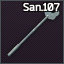Health Resort east wing office room 107 key: (0, 0, 64, 64)
